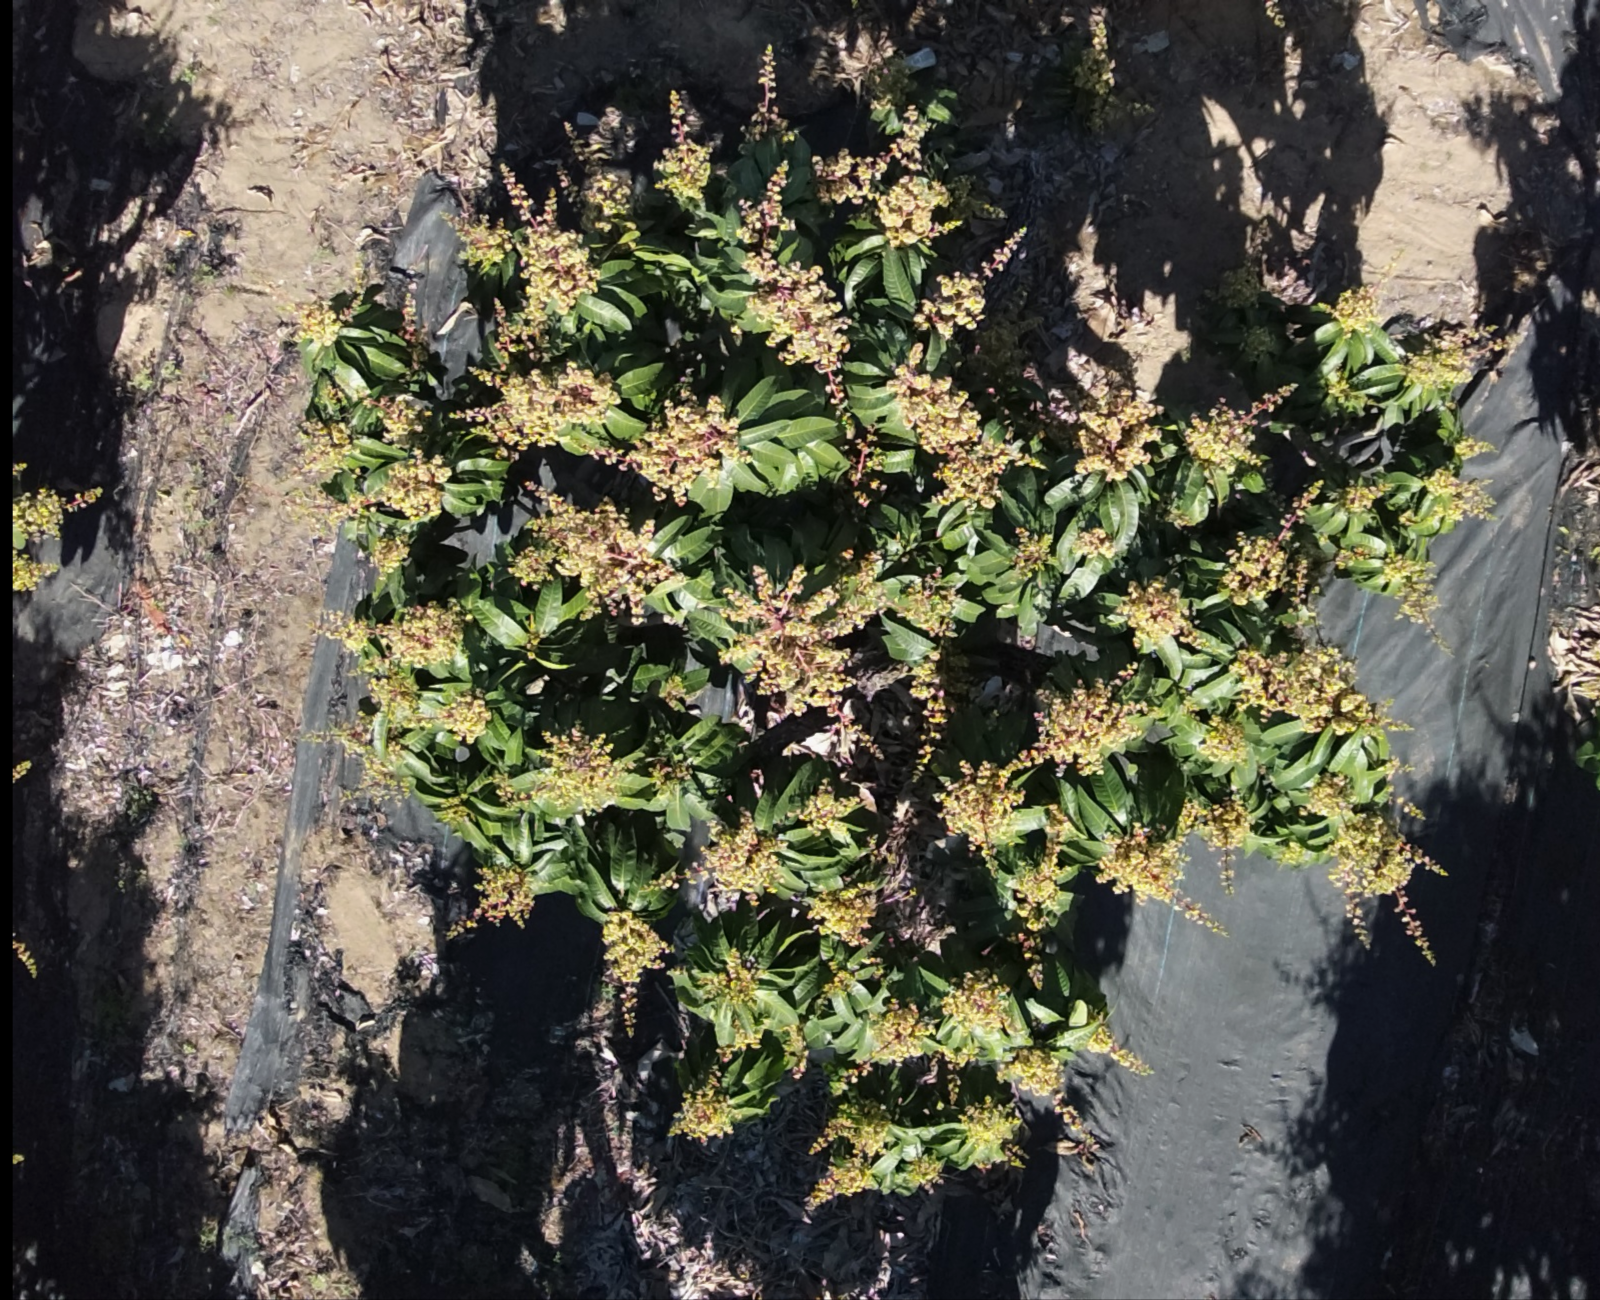flowers: (937, 681, 1140, 852), (720, 549, 886, 718), (1308, 773, 1442, 960), (738, 161, 849, 374), (888, 346, 1031, 508), (456, 166, 598, 318), (337, 601, 490, 742), (509, 489, 673, 621), (813, 106, 961, 245), (594, 386, 740, 504), (1097, 801, 1225, 934), (1231, 646, 1398, 734), (464, 362, 618, 448), (915, 226, 1026, 338), (1221, 483, 1321, 605), (1002, 1047, 1099, 1169), (495, 726, 624, 813), (1183, 385, 1292, 475), (685, 811, 780, 911), (1014, 830, 1072, 987), (807, 1098, 890, 1207), (330, 452, 450, 523), (602, 910, 667, 1033), (567, 107, 632, 228), (937, 761, 1023, 852), (1077, 385, 1160, 479), (1402, 325, 1510, 387), (654, 90, 711, 206), (447, 864, 535, 937), (783, 702, 880, 765), (1072, 8, 1114, 131), (1116, 578, 1189, 645), (13, 487, 101, 539), (671, 1071, 734, 1142), (959, 1096, 1022, 1167), (942, 968, 1010, 1031), (1382, 552, 1438, 627), (808, 883, 876, 944), (746, 44, 787, 141), (896, 572, 957, 635), (1424, 470, 1494, 523), (698, 948, 762, 1006), (872, 1002, 927, 1063), (846, 415, 884, 507), (1087, 1023, 1152, 1074), (797, 781, 858, 834), (1394, 889, 1435, 964), (909, 646, 947, 726), (435, 690, 491, 742), (300, 419, 352, 472), (371, 394, 429, 442), (1198, 714, 1246, 761), (1329, 285, 1378, 332), (576, 992, 613, 1049), (401, 300, 430, 369), (1325, 370, 1369, 415), (297, 301, 341, 345), (1014, 527, 1052, 576), (650, 757, 691, 799), (13, 551, 54, 590), (781, 1023, 808, 1078), (719, 1027, 762, 1061), (371, 536, 409, 574), (1072, 527, 1116, 558), (907, 1153, 942, 1190), (1341, 482, 1382, 512), (1242, 325, 1275, 361), (433, 795, 468, 826), (823, 964, 856, 998), (13, 933, 37, 978), (659, 674, 689, 708), (1264, 0, 1286, 27), (813, 1285, 849, 1299), (13, 759, 31, 781)
